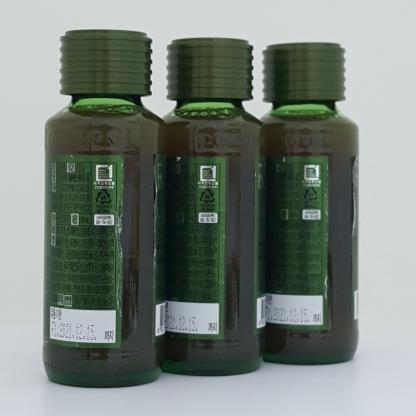CJ-----100ML: (43, 29, 166, 387), (154, 37, 266, 376), (253, 42, 359, 365)
